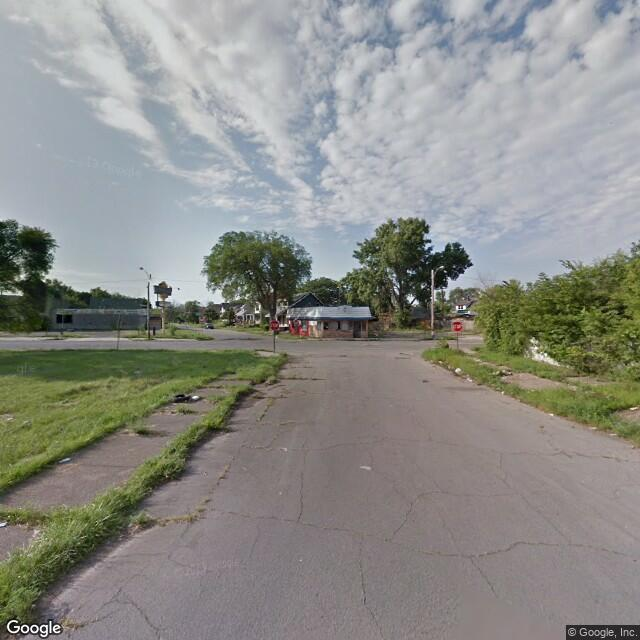litter: (171, 393, 193, 403), (625, 406, 640, 415), (2, 519, 10, 532), (62, 456, 73, 463), (197, 395, 204, 400), (547, 411, 552, 418), (450, 369, 460, 372)
